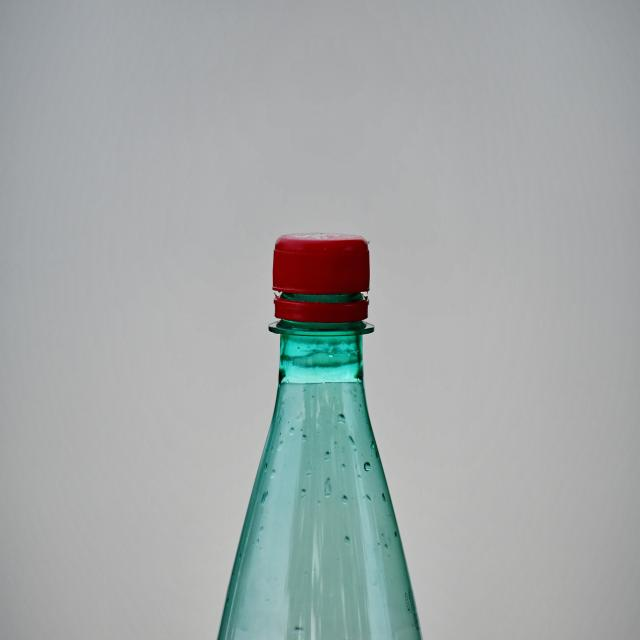plastic: (216, 230, 438, 640)
